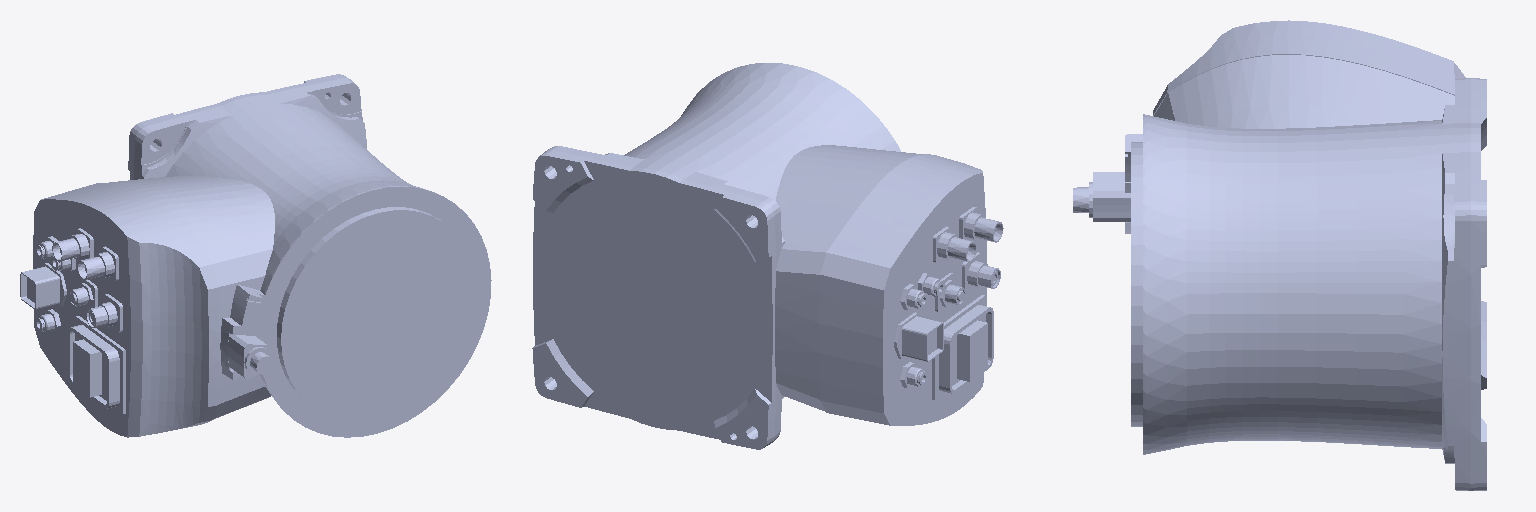
The robot description file, URDF, robot "kuka_1":
<?xml version="1.0" encoding="utf-8"?>
<!-- This URDF was automatically created by SolidWorks to URDF Exporter! Originally created by [author] ([email redacted]) 
     Commit Version: 1.5.1-0-g916b5db  Build Version: 1.5.7152.31018
     For more information, please see http://wiki.ros.org/sw_urdf_exporter -->
<robot
  name="kuka_1">
  <link
    name="kuka_1">
    <inertial>
      <origin
        xyz="0 0 0"
        rpy="0 0 0" />
      <mass
        value="0" />
      <inertia
        ixx="0"
        ixy="0"
        ixz="0"
        iyy="0"
        iyz="0"
        izz="0" />
    </inertial>
    <visual>
      <origin
        xyz="0 0 0"
        rpy="1.5707963267949 0 0" />
      <geometry>
        <mesh
          filename="package://kuka_1/meshes/kuka_1.STL" />
      </geometry>
      <material
        name="">
        <color
          rgba="0.79216 0.81961 0.93333 1" />
        <texture
          filename="package://kuka_1/textures/" />
      </material>
    </visual>
    <collision>
      <origin
        xyz="0 0 0"
        rpy="1.5707963267949 0 0" />
      <geometry>
        <mesh
          filename="package://kuka_1/meshes/kuka_1.STL" />
      </geometry>
    </collision>
  </link>
</robot>

--- What the picture shows (computed from the rendered views, not written in the file) ---
Views: 3 orthographic renders of the robot side by side, from view 1: azimuth 30°, elevation 25°; view 2: azimuth 150°, elevation 25°; view 3: azimuth 270°, elevation 25°.
Robot: kuka_1 — 1 links, 0 joints (none); root link kuka_1; default pose: all joints at 0.
Links seen in each view (by area): view 1: kuka_1; view 2: kuka_1; view 3: kuka_1.
Link boxes in pixels (<box>): kuka_1: <box>20,74,491,437</box>; kuka_1: <box>532,63,1003,449</box>; kuka_1: <box>1073,20,1486,490</box>.
Size in the robot's own frame: 0.3283 by 0.2608 by 0.2147 metres.
Meshes: 1 distinct files referenced, 1 mesh visuals loaded (1 binary STL).
